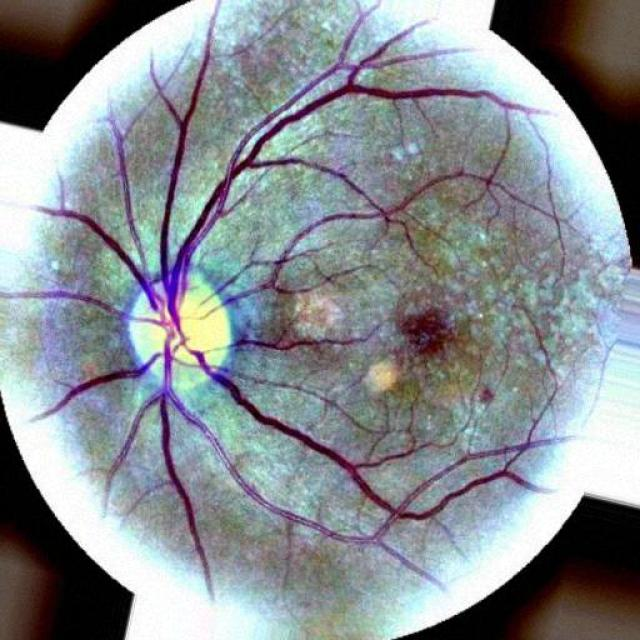Macula: (399, 305, 463, 360)
Nerves: (0, 0, 416, 580)
Optic Disk: (131, 266, 231, 397)
